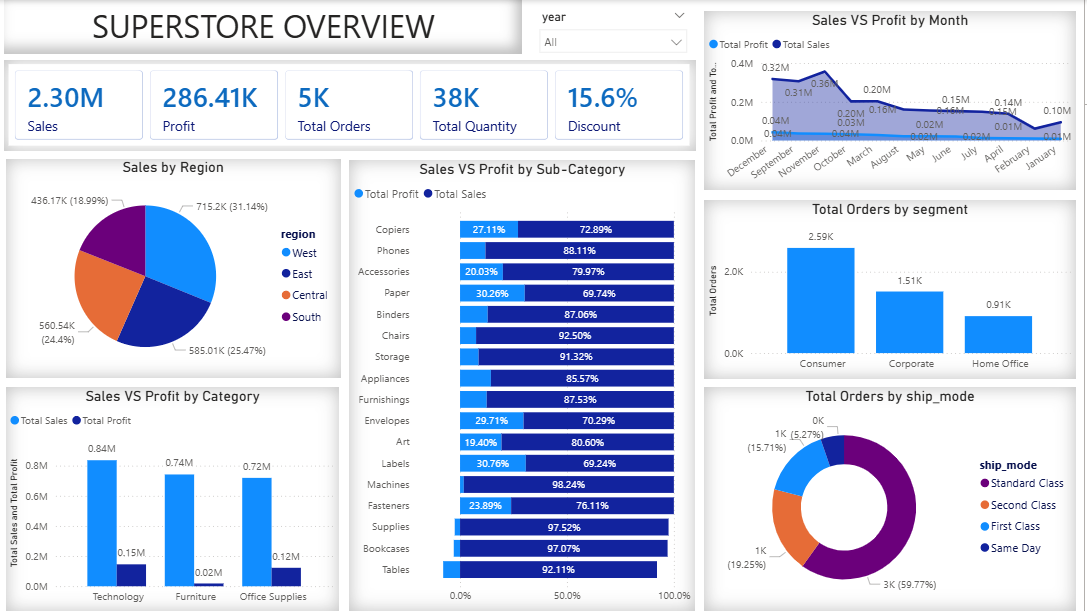

This screenshot's page, from the dashboard's own definition file:
{"tool":"powerbi","page":{"name":"Dashboard","canvas":[1280,720],"ordinal":0},"visuals":[{"type":"cardVisual","fields":{"Data":["orders.Total Sales","orders.Total Profit","orders.Total Orders","Sum(orders.quantity)","Avg(orders.discount)"]},"box":[8.6,71.3,814.1,107],"z":0},{"type":"pieChart","title":"Sales by Region","fields":{"Y":["Sum(orders.sales)"],"Category":["customers.region"]},"box":[9.7,187.3,394.1,257.8],"z":1000},{"type":"columnChart","fields":{"Category":["orders.segment"],"Y":["orders.Total Orders"]},"box":[832.9,235.5,437.1,210.4],"z":2000},{"type":"donutChart","fields":{"Y":["orders.Total Orders"],"Category":["orders.ship_mode"]},"box":[832.9,456.2,437.1,263.4],"z":3000},{"type":"clusteredColumnChart","title":"Sales VS Profit by Category","fields":{"Category":["products.category"],"Y":["orders.Total Sales","orders.Total Profit"]},"box":[9.9,455.7,393,264.2],"z":4000},{"type":"areaChart","title":"Sales VS Profit by Month","fields":{"Category":["DateTable.month_name"],"Y":["orders.Total Profit","orders.Total Sales"]},"box":[832.9,13.2,437.1,210.4],"z":5000},{"type":"hundredPercentStackedBarChart","title":"Sales VS Profit by Sub-Category","fields":{"Category":["products.sub-category"],"Y":["orders.Total Profit","orders.Total Sales"]},"box":[414.5,188.2,407.1,531.3],"z":6000},{"type":"textbox","box":[8.8,0,609.2,63.3],"z":7000},{"type":"slicer","fields":{"Values":["DateTable.year"]},"box":[628.4,5.9,194.3,57.4],"z":8000}]}

Visuals, with their boxes in screenshot pixels (x1, y1, x2, y2), scaled from the page's 1280x720 canvas onto the 1087x611 screenshot:
cardVisual - orders.Total Sales x orders.Total Profit: (x1=7, y1=61, x2=699, y2=151)
"Sales by Region" pieChart: (x1=8, y1=159, x2=343, y2=378)
columnChart - orders.segment x orders.Total Orders: (x1=707, y1=200, x2=1079, y2=378)
donutChart - orders.Total Orders x orders.ship_mode: (x1=707, y1=387, x2=1079, y2=610)
"Sales VS Profit by Category" clusteredColumnChart: (x1=8, y1=387, x2=342, y2=610)
"Sales VS Profit by Month" areaChart: (x1=707, y1=11, x2=1079, y2=190)
"Sales VS Profit by Sub-Category" hundredPercentStackedBarChart: (x1=352, y1=160, x2=698, y2=610)
textbox: (x1=7, y1=0, x2=525, y2=54)
slicer - DateTable.year: (x1=534, y1=5, x2=699, y2=54)
